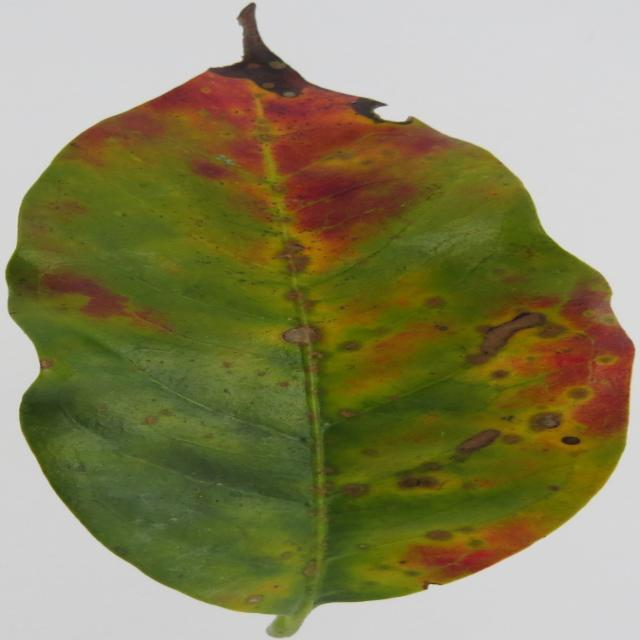DeficienciaNutricional-Fosforo: (8, 8, 631, 636)
